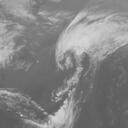cyclone: (53, 33, 94, 96)
